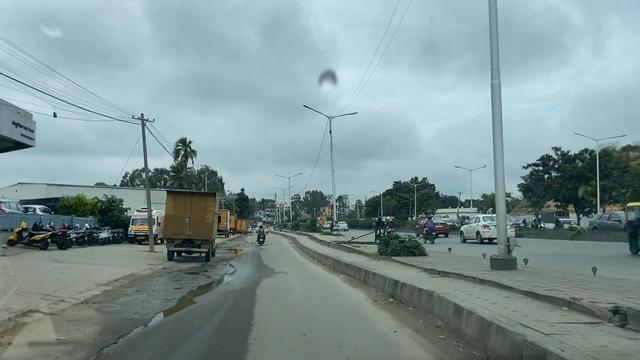HMV: (166, 190, 215, 259)
